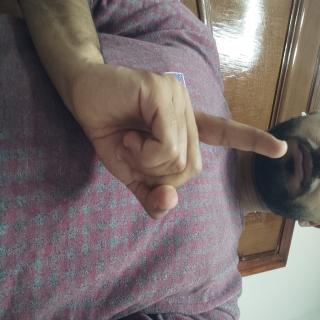RAA: (42, 35, 166, 320)
